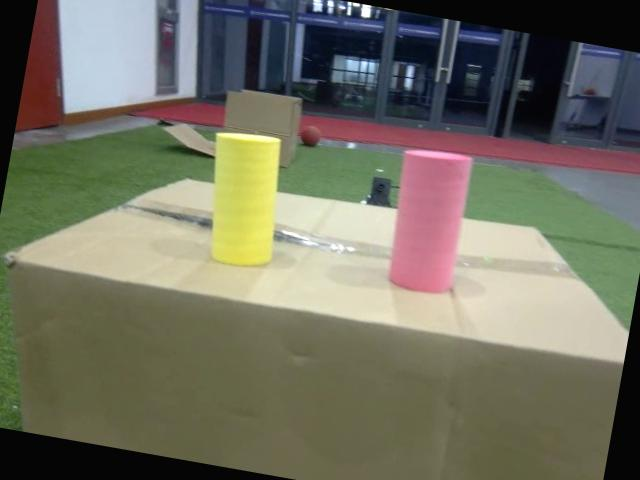red_ball: (298, 124, 324, 149)
red_cylinder: (380, 144, 481, 300)
yellow_cylinder: (190, 125, 293, 272)
